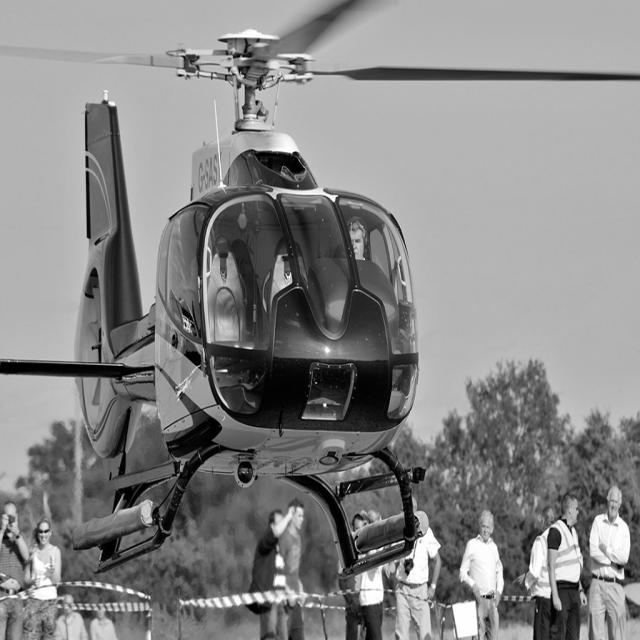helicopter: (1, 1, 476, 640)
